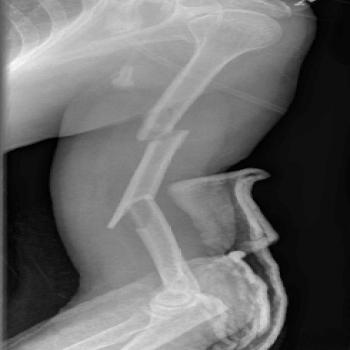Fracture: (90, 195, 178, 231), (132, 123, 200, 147)
